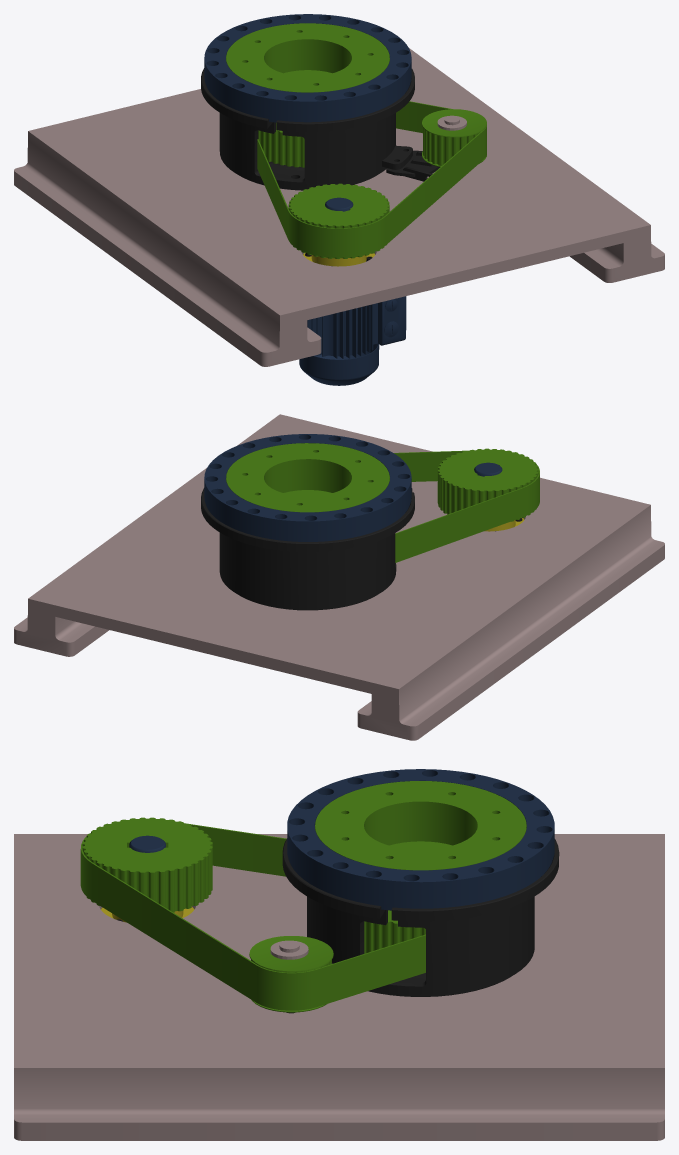
File: 機械魔法.FBX
3 views of the same model, one above another, from view 1: azimuth 30°, elevation 25°; view 2: azimuth 150°, elevation 25°; view 3: azimuth 270°, elevation 25° (orthographic). The views are drawn at different scales.
Parts seen in each view (by area): view 1: 置物檯, 隱藏物件A, 隱藏物件B, 軸A, 皮帶, 齒輪C, 齒輪B, 齒輪A; view 2: 置物檯, 隱藏物件A, 隱藏物件B, 軸A, 皮帶, 齒輪C; view 3: 置物檯, 皮帶, 隱藏物件B, 隱藏物件A, 軸A, 齒輪C, 齒輪B, 齒輪A, 軸B.
Part boxes in pixels (x1,y1,x2,y2): 置物檯: (14, 48, 664, 385); 隱藏物件A: (201, 68, 414, 190); 隱藏物件B: (204, 14, 411, 122); 軸A: (226, 23, 389, 92); 皮帶: (257, 101, 486, 257); 齒輪C: (288, 183, 389, 258); 齒輪B: (422, 109, 486, 167); 齒輪A: (258, 123, 304, 167); 置物檯: (14, 414, 664, 740); 隱藏物件A: (201, 488, 414, 610); 隱藏物件B: (204, 434, 411, 541); 軸A: (226, 443, 389, 512); 皮帶: (394, 450, 539, 562); 齒輪C: (437, 448, 538, 521); 置物檯: (14, 834, 664, 1140); 皮帶: (80, 823, 425, 1010); 隱藏物件B: (287, 769, 554, 910); 隱藏物件A: (282, 838, 559, 996); 軸A: (315, 781, 526, 870); 齒輪C: (82, 817, 212, 912); 齒輪B: (249, 936, 333, 1012); 齒輪A: (364, 910, 425, 953); 軸B: (270, 940, 308, 959).
Bounding box in the file's own units: 74 × 80 × 38.6.
